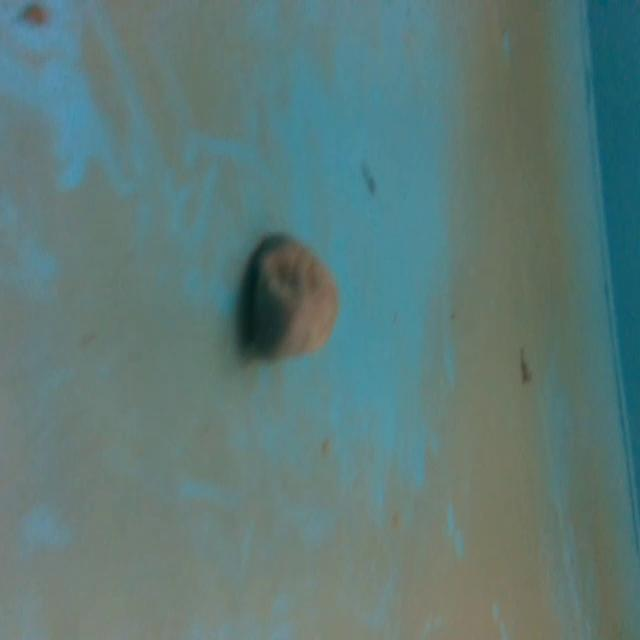rock: (242, 230, 342, 374)
